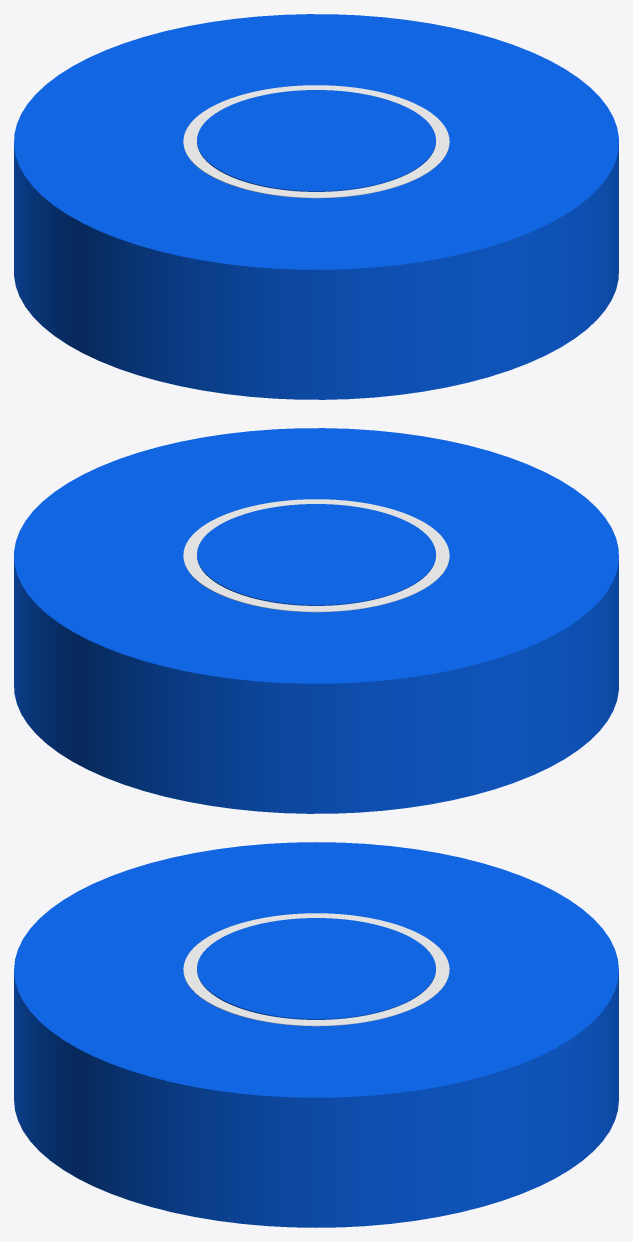
The model's file is pointer.fbx.
The picture shows the model from 3 angles, top to bottom: view 1: azimuth 30°, elevation 25°; view 2: azimuth 150°, elevation 25°; view 3: azimuth 270°, elevation 25°; orthographic projection.
Parts seen in each view (by area): view 1: Cylinder_1, Cylinder, Tube; view 2: Cylinder_1, Cylinder, Tube; view 3: Cylinder_1, Cylinder, Tube.
Boxes of the visible parts, x1,y1,x2,y2 form: Cylinder_1: [14, 14, 618, 399]; Cylinder: [197, 90, 435, 191]; Tube: [183, 85, 449, 198]; Cylinder_1: [14, 428, 618, 813]; Cylinder: [197, 504, 435, 605]; Tube: [183, 499, 449, 612]; Cylinder_1: [14, 842, 618, 1227]; Cylinder: [197, 918, 435, 1019]; Tube: [183, 913, 449, 1026].
Size of the model in its own units: 253 by 60.69 by 253.
